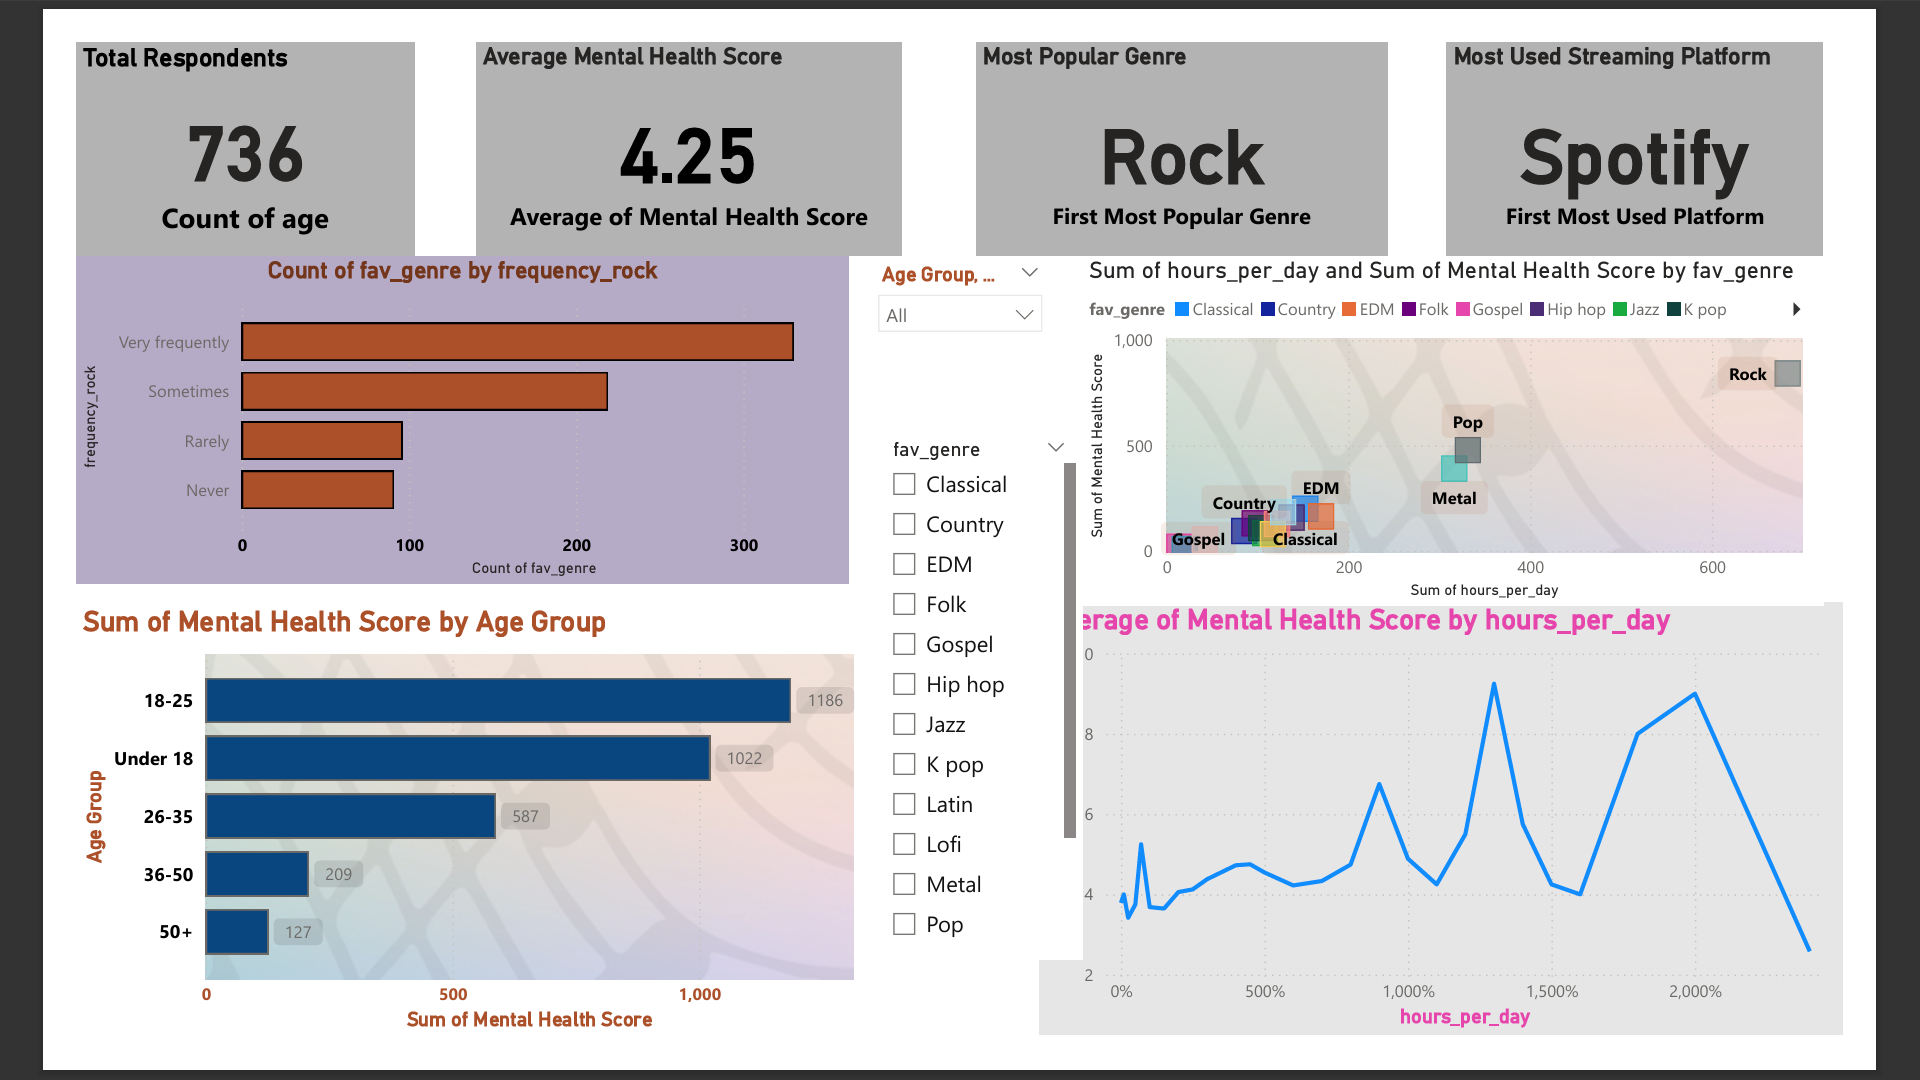

What the dashboard file says about the page in this screenshot:
{"tool":"powerbi","page":{"name":"Dashboard","canvas":[1280,720],"ordinal":1},"visuals":[{"type":"card","title":"Total Respondents","fields":{"Values":["CountNonNull(mxmh_survey_cleaned.age)"]},"box":[0,0,245.2,154.8],"z":0},{"type":"card","title":"Average Mental Health Score\t","fields":{"Values":["Avg(mxmh_survey_cleaned.Mental Health Score)"]},"box":[290.3,0,308.1,154.8],"z":1000},{"type":"card","title":"Most Popular Genre\t","fields":{"Values":["Min(mxmh_survey_cleaned.Most Popular Genre)"]},"box":[651.6,0,298.4,154.8],"z":2000},{"type":"card","title":"Most Used Streaming Platform","fields":{"Values":["Min(mxmh_survey_cleaned.Most Used Platform)"]},"box":[992.6,0,273.6,155.4],"z":3000},{"type":"clusteredBarChart","fields":{"Category":["mxmh_survey_cleaned.Age Group"],"Y":["Sum(mxmh_survey_cleaned.Mental Health Score)"]},"box":[0,408.1,583.9,312.9],"z":5000},{"type":"lineChart","fields":{"Category":["mxmh_survey_cleaned.hours_per_day"],"Y":["Avg(mxmh_survey_cleaned.Mental Health Score)"]},"box":[698.4,406.5,582.3,312.9],"z":6000},{"type":"slicer","fields":{"Values":["mxmh_survey_cleaned.Age Group","mxmh_survey_cleaned.primary_streaming_service","mxmh_survey_cleaned.fav_genre"]},"box":[571,154.8,138.7,79],"z":10000},{"type":"scatterChart","fields":{"X":["Sum(mxmh_survey_cleaned.hours_per_day)"],"Y":["Sum(mxmh_survey_cleaned.Mental Health Score)"],"Series":["mxmh_survey_cleaned.fav_genre"]},"box":[729,154.8,537.1,253.2],"z":10001},{"type":"clusteredBarChart","fields":{"Category":["mxmh_survey_cleaned.frequency_rock"],"Y":["CountNonNull(mxmh_survey_cleaned.fav_genre)"]},"box":[0,154.8,559.7,237.1],"z":10002},{"type":"slicer","fields":{"Values":["mxmh_survey_cleaned.fav_genre"]},"box":[579,282.3,150,382.3],"z":10003}]}

Visuals, with their boxes in screenshot pixels (x1, y1, x2, y2), scaled from the page's 1280x720 canvas onto the 1920x1080 screenshot:
"Total Respondents" card: (left=0, top=0, right=368, bottom=232)
"Average Mental Health Score	" card: (left=435, top=0, right=898, bottom=232)
"Most Popular Genre	" card: (left=977, top=0, right=1425, bottom=232)
"Most Used Streaming Platform" card: (left=1489, top=0, right=1899, bottom=233)
clusteredBarChart - mxmh_survey_cleaned.Age Group x Sum(mxmh_survey_cleaned.Mental Health Score): (left=0, top=612, right=876, bottom=1079)
lineChart - mxmh_survey_cleaned.hours_per_day x Avg(mxmh_survey_cleaned.Mental Health Score): (left=1048, top=610, right=1919, bottom=1079)
slicer - mxmh_survey_cleaned.Age Group x mxmh_survey_cleaned.primary_streaming_service: (left=856, top=232, right=1065, bottom=351)
scatterChart - Sum(mxmh_survey_cleaned.hours_per_day) x Sum(mxmh_survey_cleaned.Mental Health Score): (left=1094, top=232, right=1899, bottom=612)
clusteredBarChart - mxmh_survey_cleaned.frequency_rock x CountNonNull(mxmh_survey_cleaned.fav_genre): (left=0, top=232, right=840, bottom=588)
slicer - mxmh_survey_cleaned.fav_genre: (left=868, top=423, right=1094, bottom=997)
